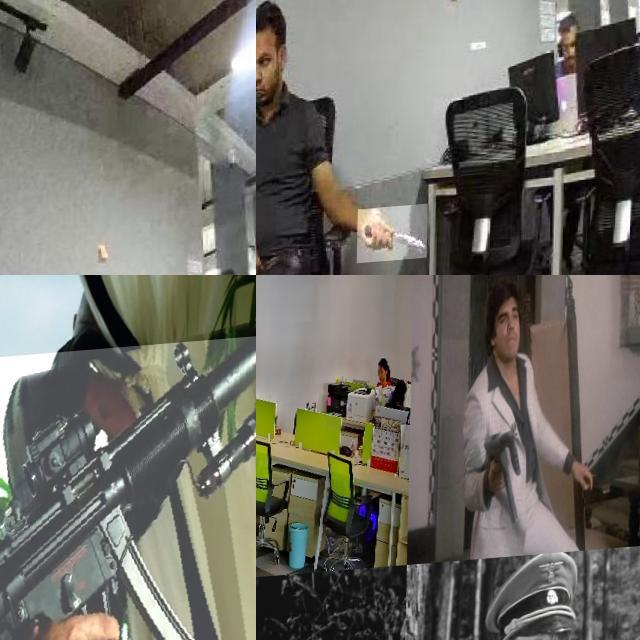-: (360, 210, 430, 270)
gun-knife-thesis - v11 Yolov5 augmented: (0, 340, 256, 640), (474, 428, 525, 530), (256, 395, 273, 458)
